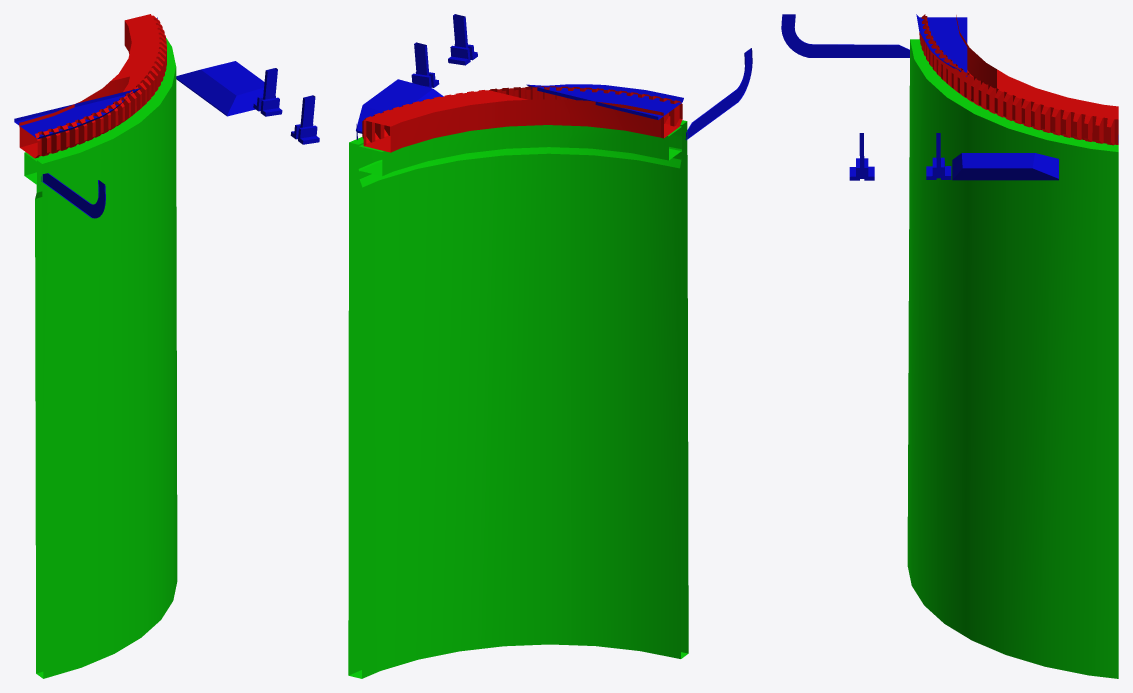
The model's file is Top Base 4.fbx.
The picture shows the model from 3 angles, left to right: view 1: azimuth 30°, elevation 25°; view 2: azimuth 150°, elevation 25°; view 3: azimuth 270°, elevation 25°; orthographic projection. The views are drawn at different scales.
Parts seen in each view (by area): view 1: LOD0_SM_TurbineTop_Base_04; view 2: LOD0_SM_TurbineTop_Base_04; view 3: LOD0_SM_TurbineTop_Base_04.
Part boxes in pixels (bbox=[...]): LOD0_SM_TurbineTop_Base_04: bbox=[14, 14, 319, 678]; LOD0_SM_TurbineTop_Base_04: bbox=[348, 14, 752, 678]; LOD0_SM_TurbineTop_Base_04: bbox=[781, 14, 1118, 678].
Bounding box in the file's own units: 175 × 357 × 197.
